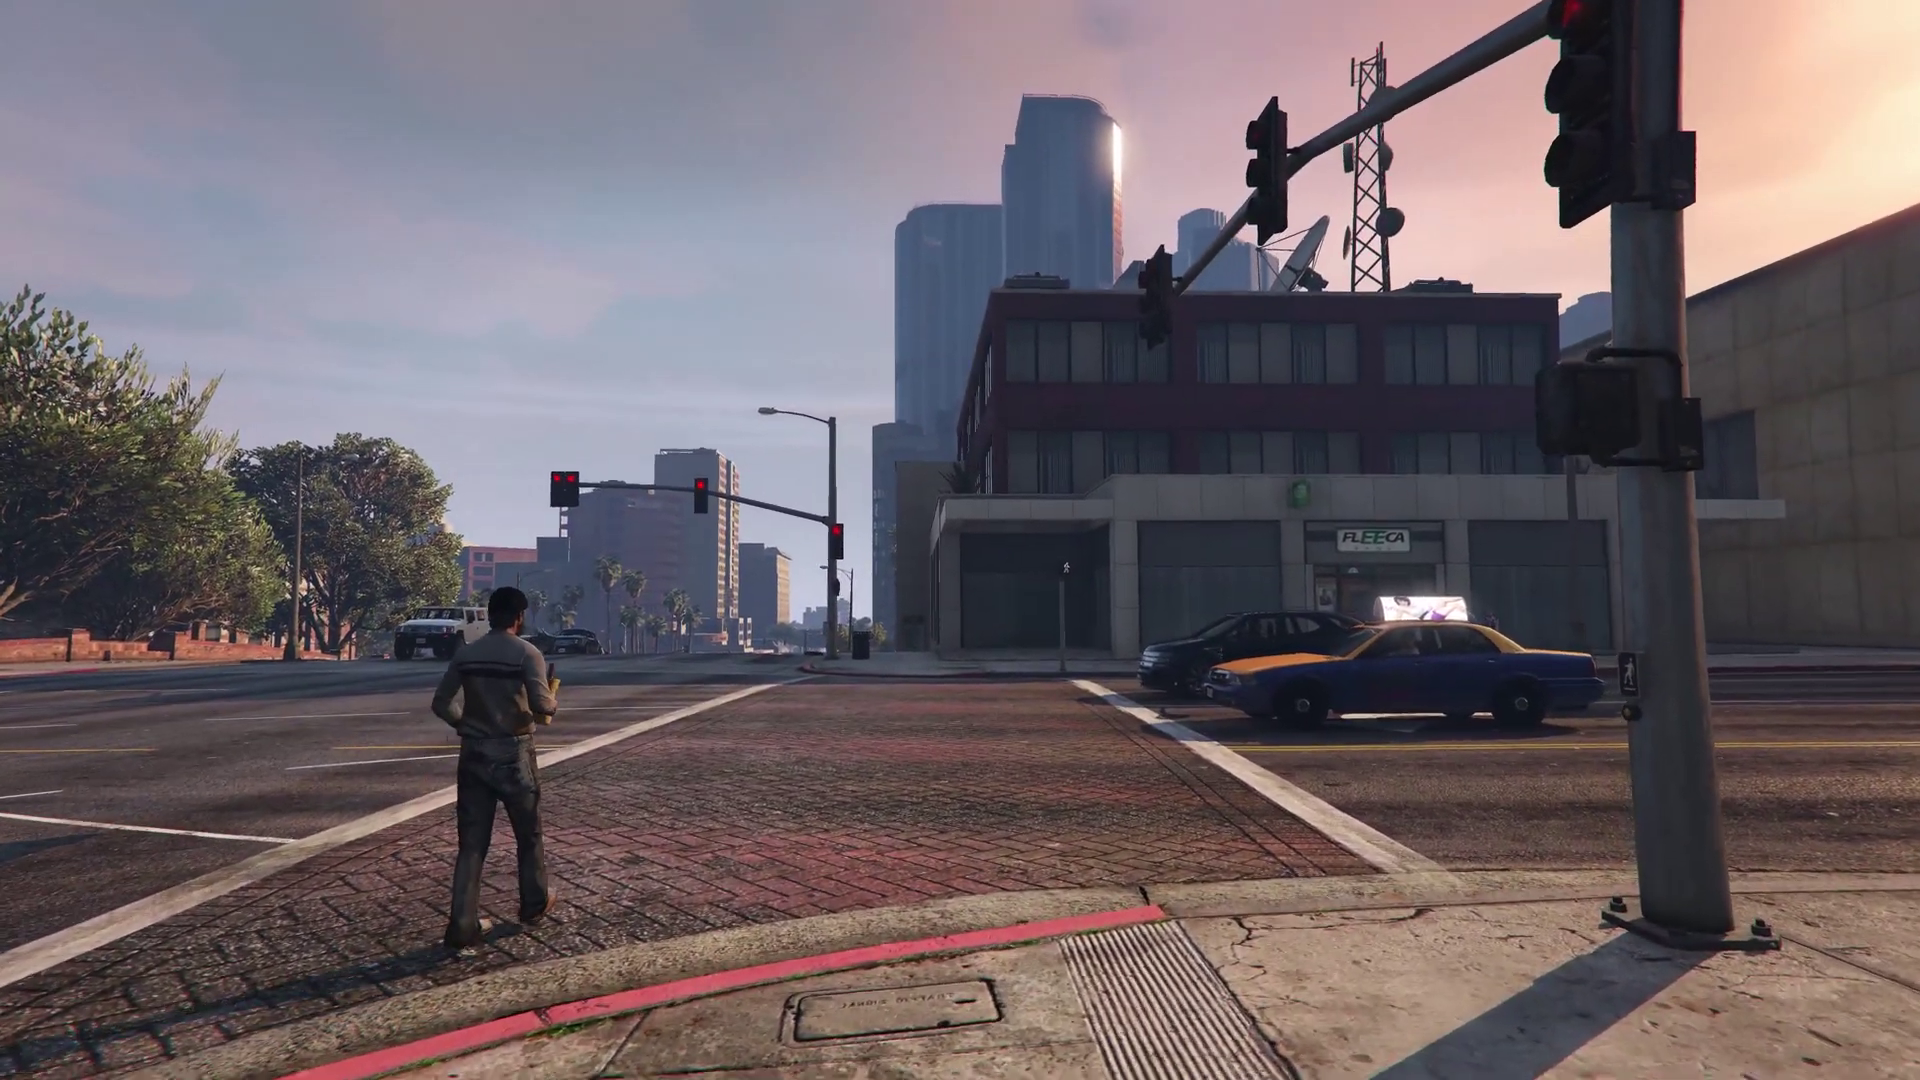car: (1210, 620, 1608, 735), (1139, 608, 1355, 691), (394, 606, 489, 659), (554, 630, 601, 659)
person: (431, 588, 562, 949)
traffic light: (1542, 1, 1642, 233), (1536, 357, 1638, 465), (1247, 96, 1291, 246), (1138, 247, 1177, 349), (550, 471, 578, 509), (692, 478, 707, 515), (829, 522, 843, 561)
